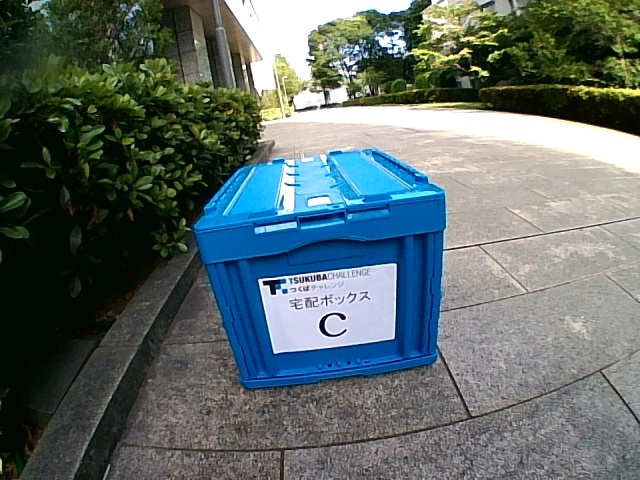green_box: (192, 147, 446, 390)
tag_c: (275, 278, 395, 341)
